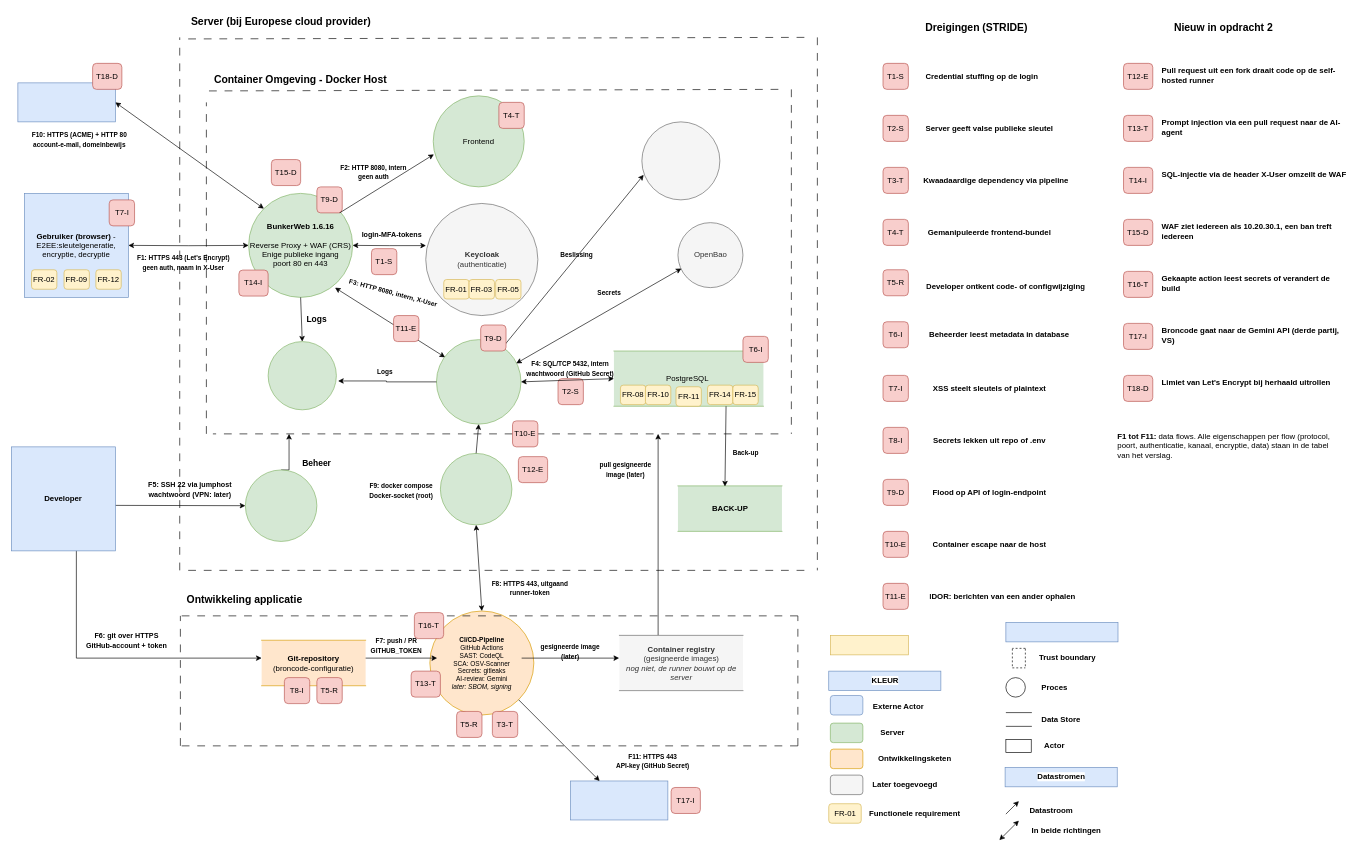
Image size: 1360x857. Some labels were removed from this diagram. Each missing label, with the centre of its shape:
"Backend / API" belongs at pixel 478 381.
"Gemini API (Google, VS)" belongs at pixel 619 800.
"LEGENDE" belongs at pixel 869 645.
"Let's Encrypt (ACME)" belongs at pixel 66 102.
"Logging & Monitoring" belongs at pixel 301 375.
"Notatie" belongs at pixel 1061 632.
"OPA / Rego (Autorisatie)" belongs at pixel 680 160.
"Self-hosted runner g06-deploy" belongs at pixel 476 489.
"SSH-toegang" belongs at pixel 281 505.
